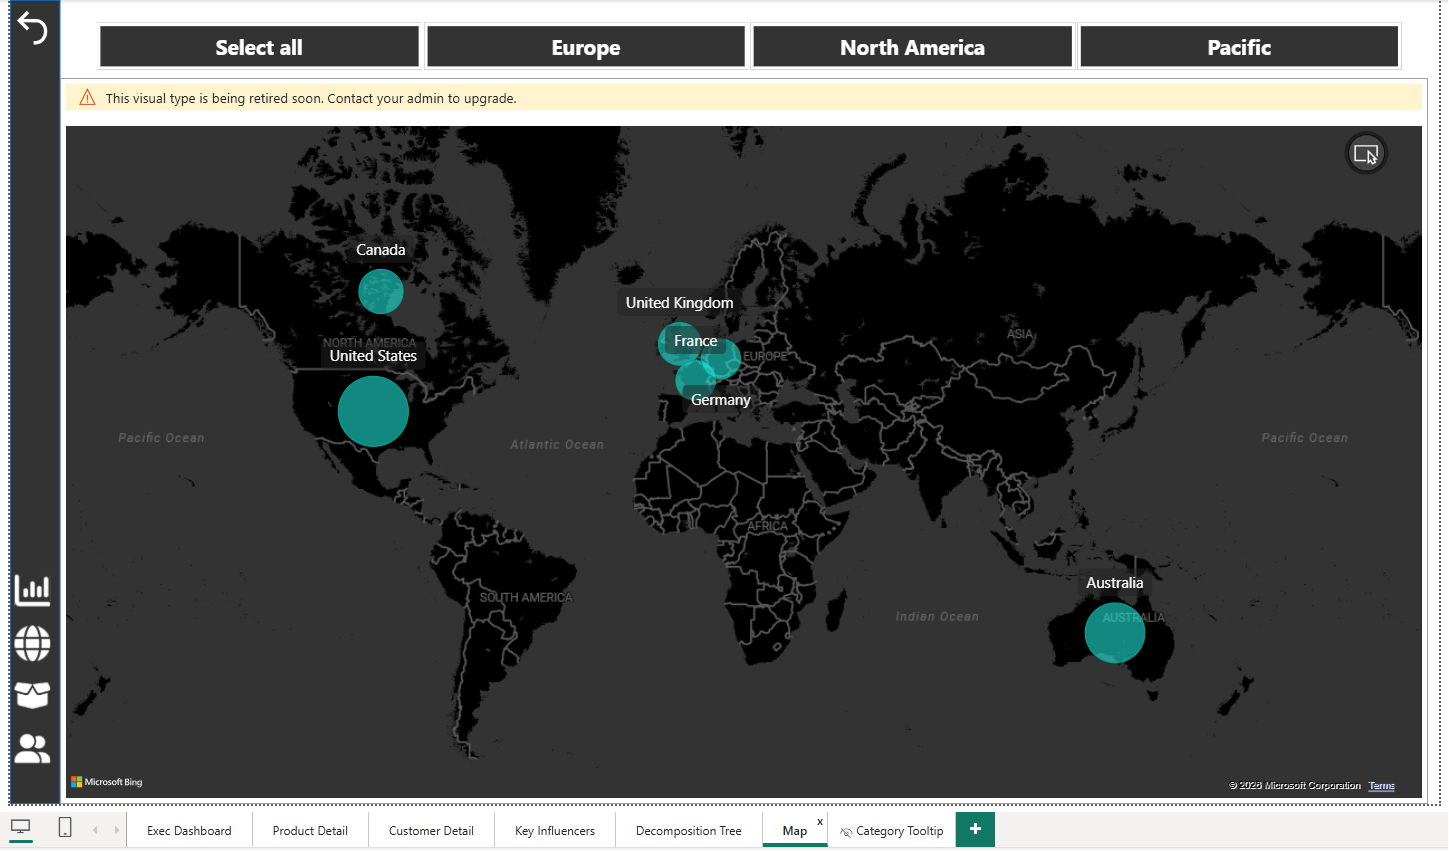

This screenshot's page, from the dashboard's own definition file:
{"tool":"powerbi","page":{"name":"Map","canvas":[1280,720],"ordinal":5},"visuals":[{"type":"shape","box":[0,0,45,720],"z":0},{"type":"actionButton","box":[0,508.7,44.8,40.3],"z":0,"group":"g1"},{"type":"map","fields":{"Category":["Territory Lookup.Country"],"Size":["Measure Table.Total Orders"]},"box":[44.5,70,1225.5,650],"z":1000},{"type":"actionButton","box":[0,603,44.8,40.3],"z":1000,"group":"g1"},{"type":"slicer","fields":{"Values":["Territory Lookup.Continent"]},"box":[51.8,13.6,1218.2,56.4],"z":2000},{"type":"actionButton","box":[0,555.9,44.8,40.3],"z":2000,"group":"g1"},{"type":"group","id":"g1","title":"Navigation Buttons","box":[0,508.7,44.8,181.8],"z":3000},{"type":"actionButton","box":[0,650.2,44.8,40.3],"z":3000,"group":"g1"},{"type":"actionButton","box":[0,4.5,44.8,40.3],"z":3001}]}

Visuals, with their boxes on the page's 1280x720 design canvas (x1, y1, x2, y2). These are canvas units, not pixel positions in the 1449x851 screenshot, which may show the page scaled, cropped or inside an application window:
shape: locate(0, 0, 45, 720)
actionButton: locate(0, 509, 45, 549)
map - Territory Lookup.Country x Measure Table.Total Orders: locate(44, 70, 1270, 720)
actionButton: locate(0, 603, 45, 643)
slicer - Territory Lookup.Continent: locate(52, 14, 1270, 70)
actionButton: locate(0, 556, 45, 596)
"Navigation Buttons" group: locate(0, 509, 45, 690)
actionButton: locate(0, 650, 45, 690)
actionButton: locate(0, 4, 45, 45)
